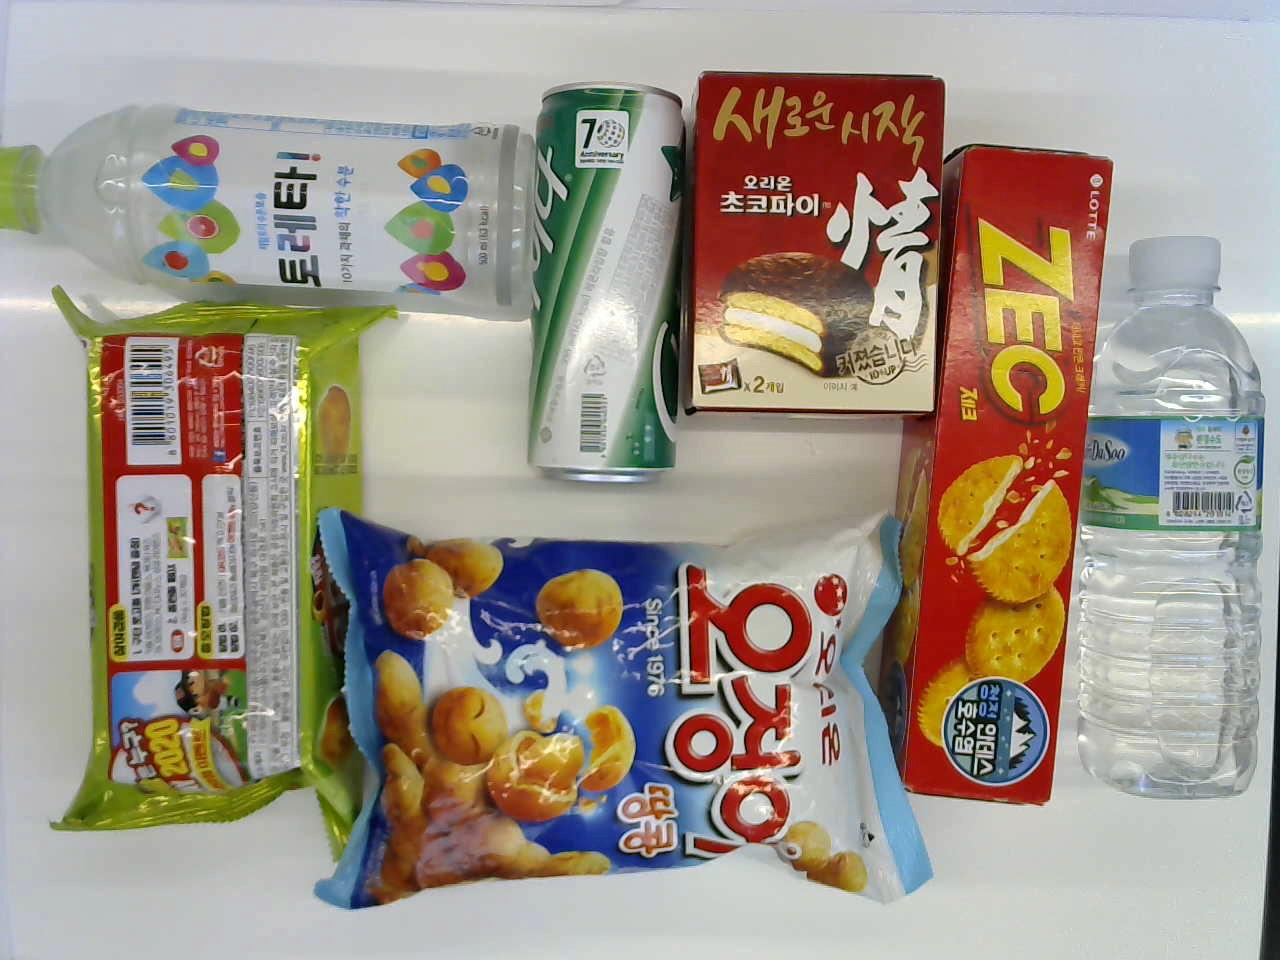chocopie: (686, 69, 953, 416)
cidar: (524, 82, 681, 498)
homerunball: (45, 297, 372, 841)
samdasu: (1074, 228, 1273, 800)
squid_peanut: (333, 506, 914, 911)
toreta: (0, 104, 531, 330)
zec: (901, 142, 1100, 812)
